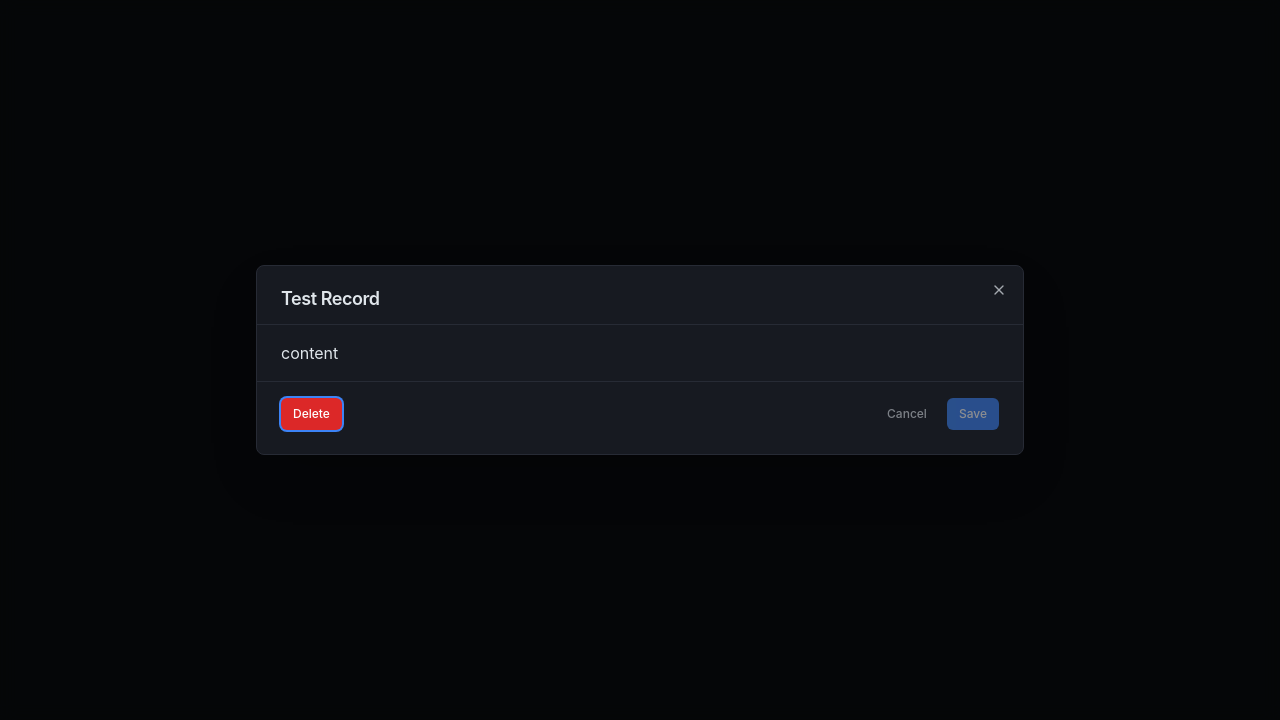
Test: RecordModal — loading states › shows Deleting... state and disables buttons when isDeleting is true
// Trigger confirmation state first (initial Delete is not blocked by isDeleting)
Click the button "Delete" at (311, 414), box [281, 398, 342, 430]
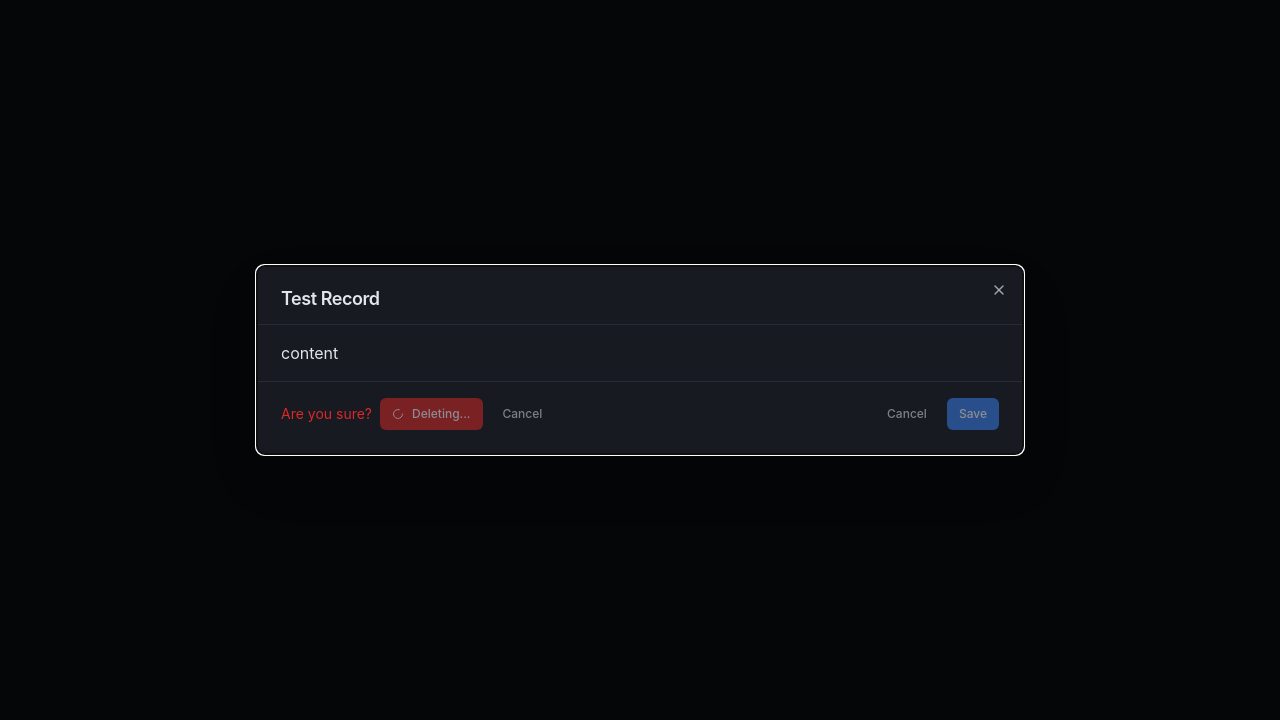
Now the button "Deleting..." is disabled, box [380, 398, 482, 430]
Now the button "Cancel" in the row of "Are you sure?" is disabled, box [490, 398, 554, 430]
